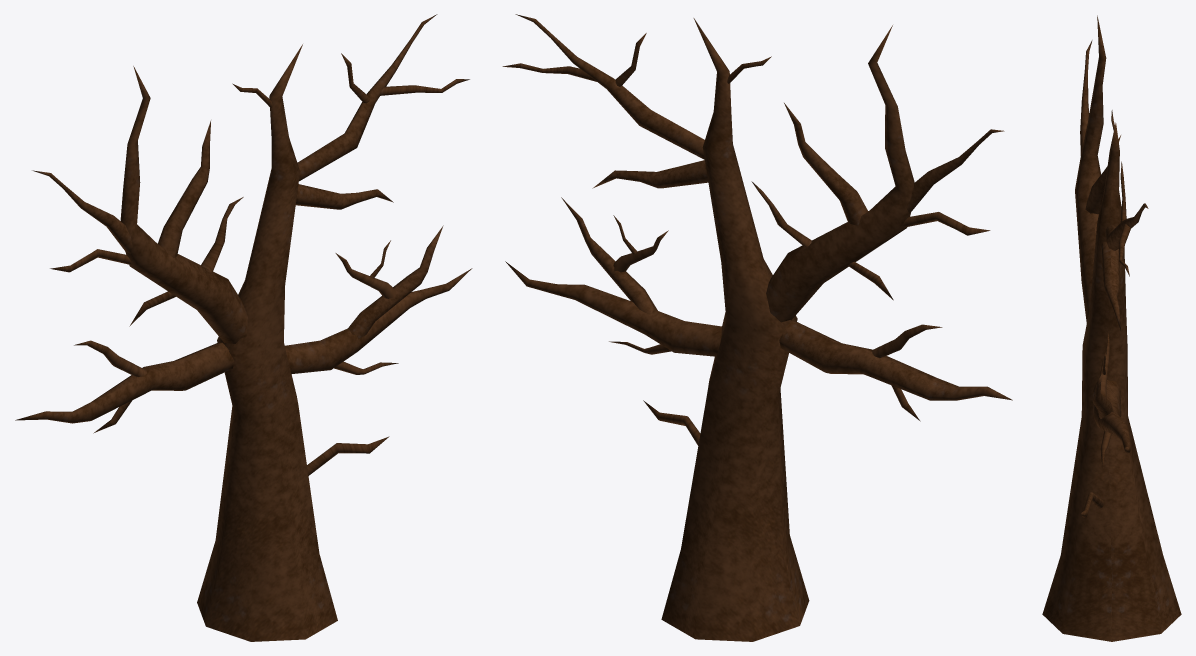
File: Tree.fbx
3 renders of one model, left to right at view 1: azimuth 30°, elevation 25°; view 2: azimuth 150°, elevation 25°; view 3: azimuth 270°, elevation 25°, orthographic. The views are drawn at different scales.
Parts seen in each view (by area): view 1: ArvoreSeca; view 2: ArvoreSeca; view 3: ArvoreSeca.
Boxes of the visible parts, <box> form: ArvoreSeca: <box>15,14,472,641</box>; ArvoreSeca: <box>502,14,1012,641</box>; ArvoreSeca: <box>1042,15,1181,641</box>.
Bounding box in the file's own units: 843 × 1002 × 235.
